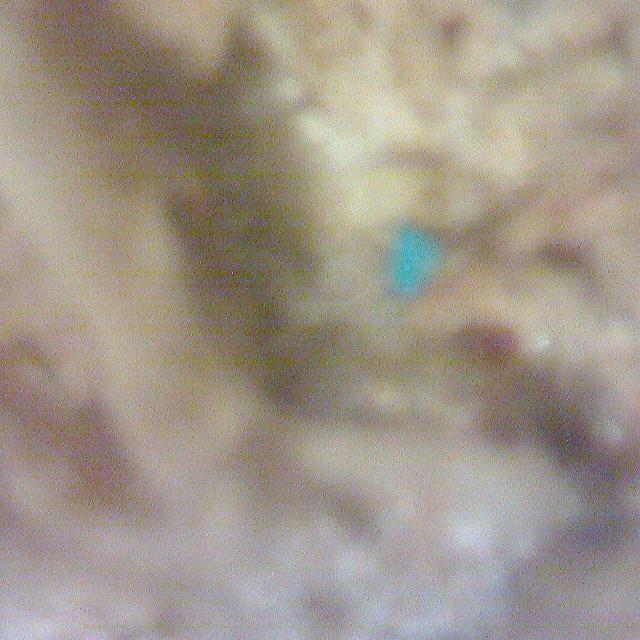microplastic: (383, 215, 451, 299)
